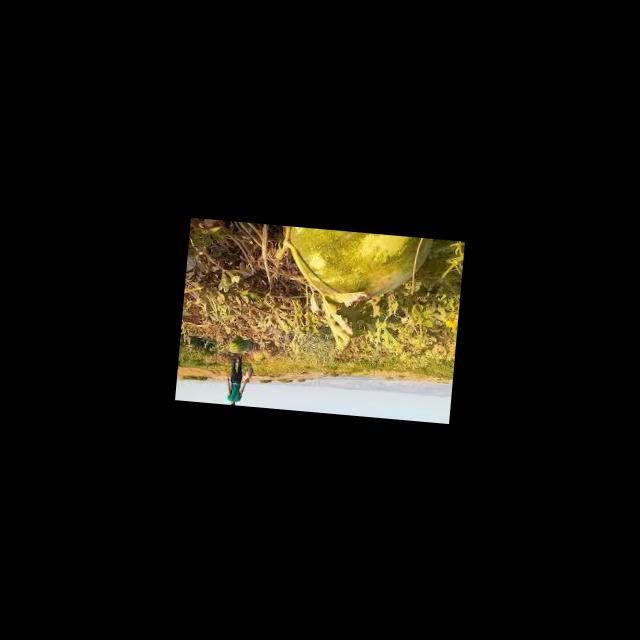watermelon: (282, 225, 434, 307), (226, 334, 252, 354), (253, 352, 266, 359)
